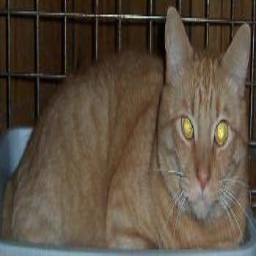cat: (8, 11, 251, 250)
